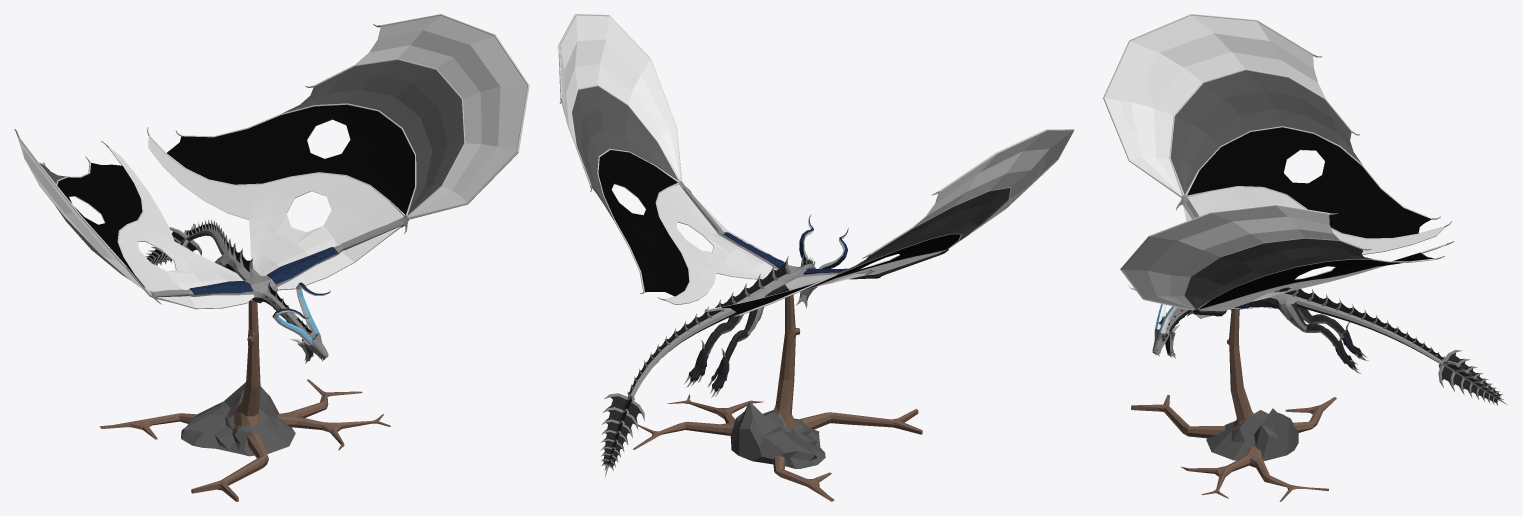
Rendered from YinYangWyvern.gltf.
3 renders of one model, left to right at view 1: azimuth 30°, elevation 25°; view 2: azimuth 150°, elevation 25°; view 3: azimuth 270°, elevation 25°, orthographic. The views are drawn at different scales.
Visible parts, largest first — view 1: Tail2.007; view 2: Tail2.007; view 3: Tail2.007.
Part boxes in pixels (x1,y1,x2,y2): Tail2.007: [14, 14, 529, 501]; Tail2.007: [558, 14, 1074, 501]; Tail2.007: [1103, 14, 1507, 501].
Size of the model in its own units: 7.23 by 5.39 by 5.94.
